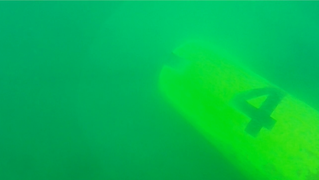4: (230, 85, 287, 139)
pipe: (157, 37, 319, 180)
